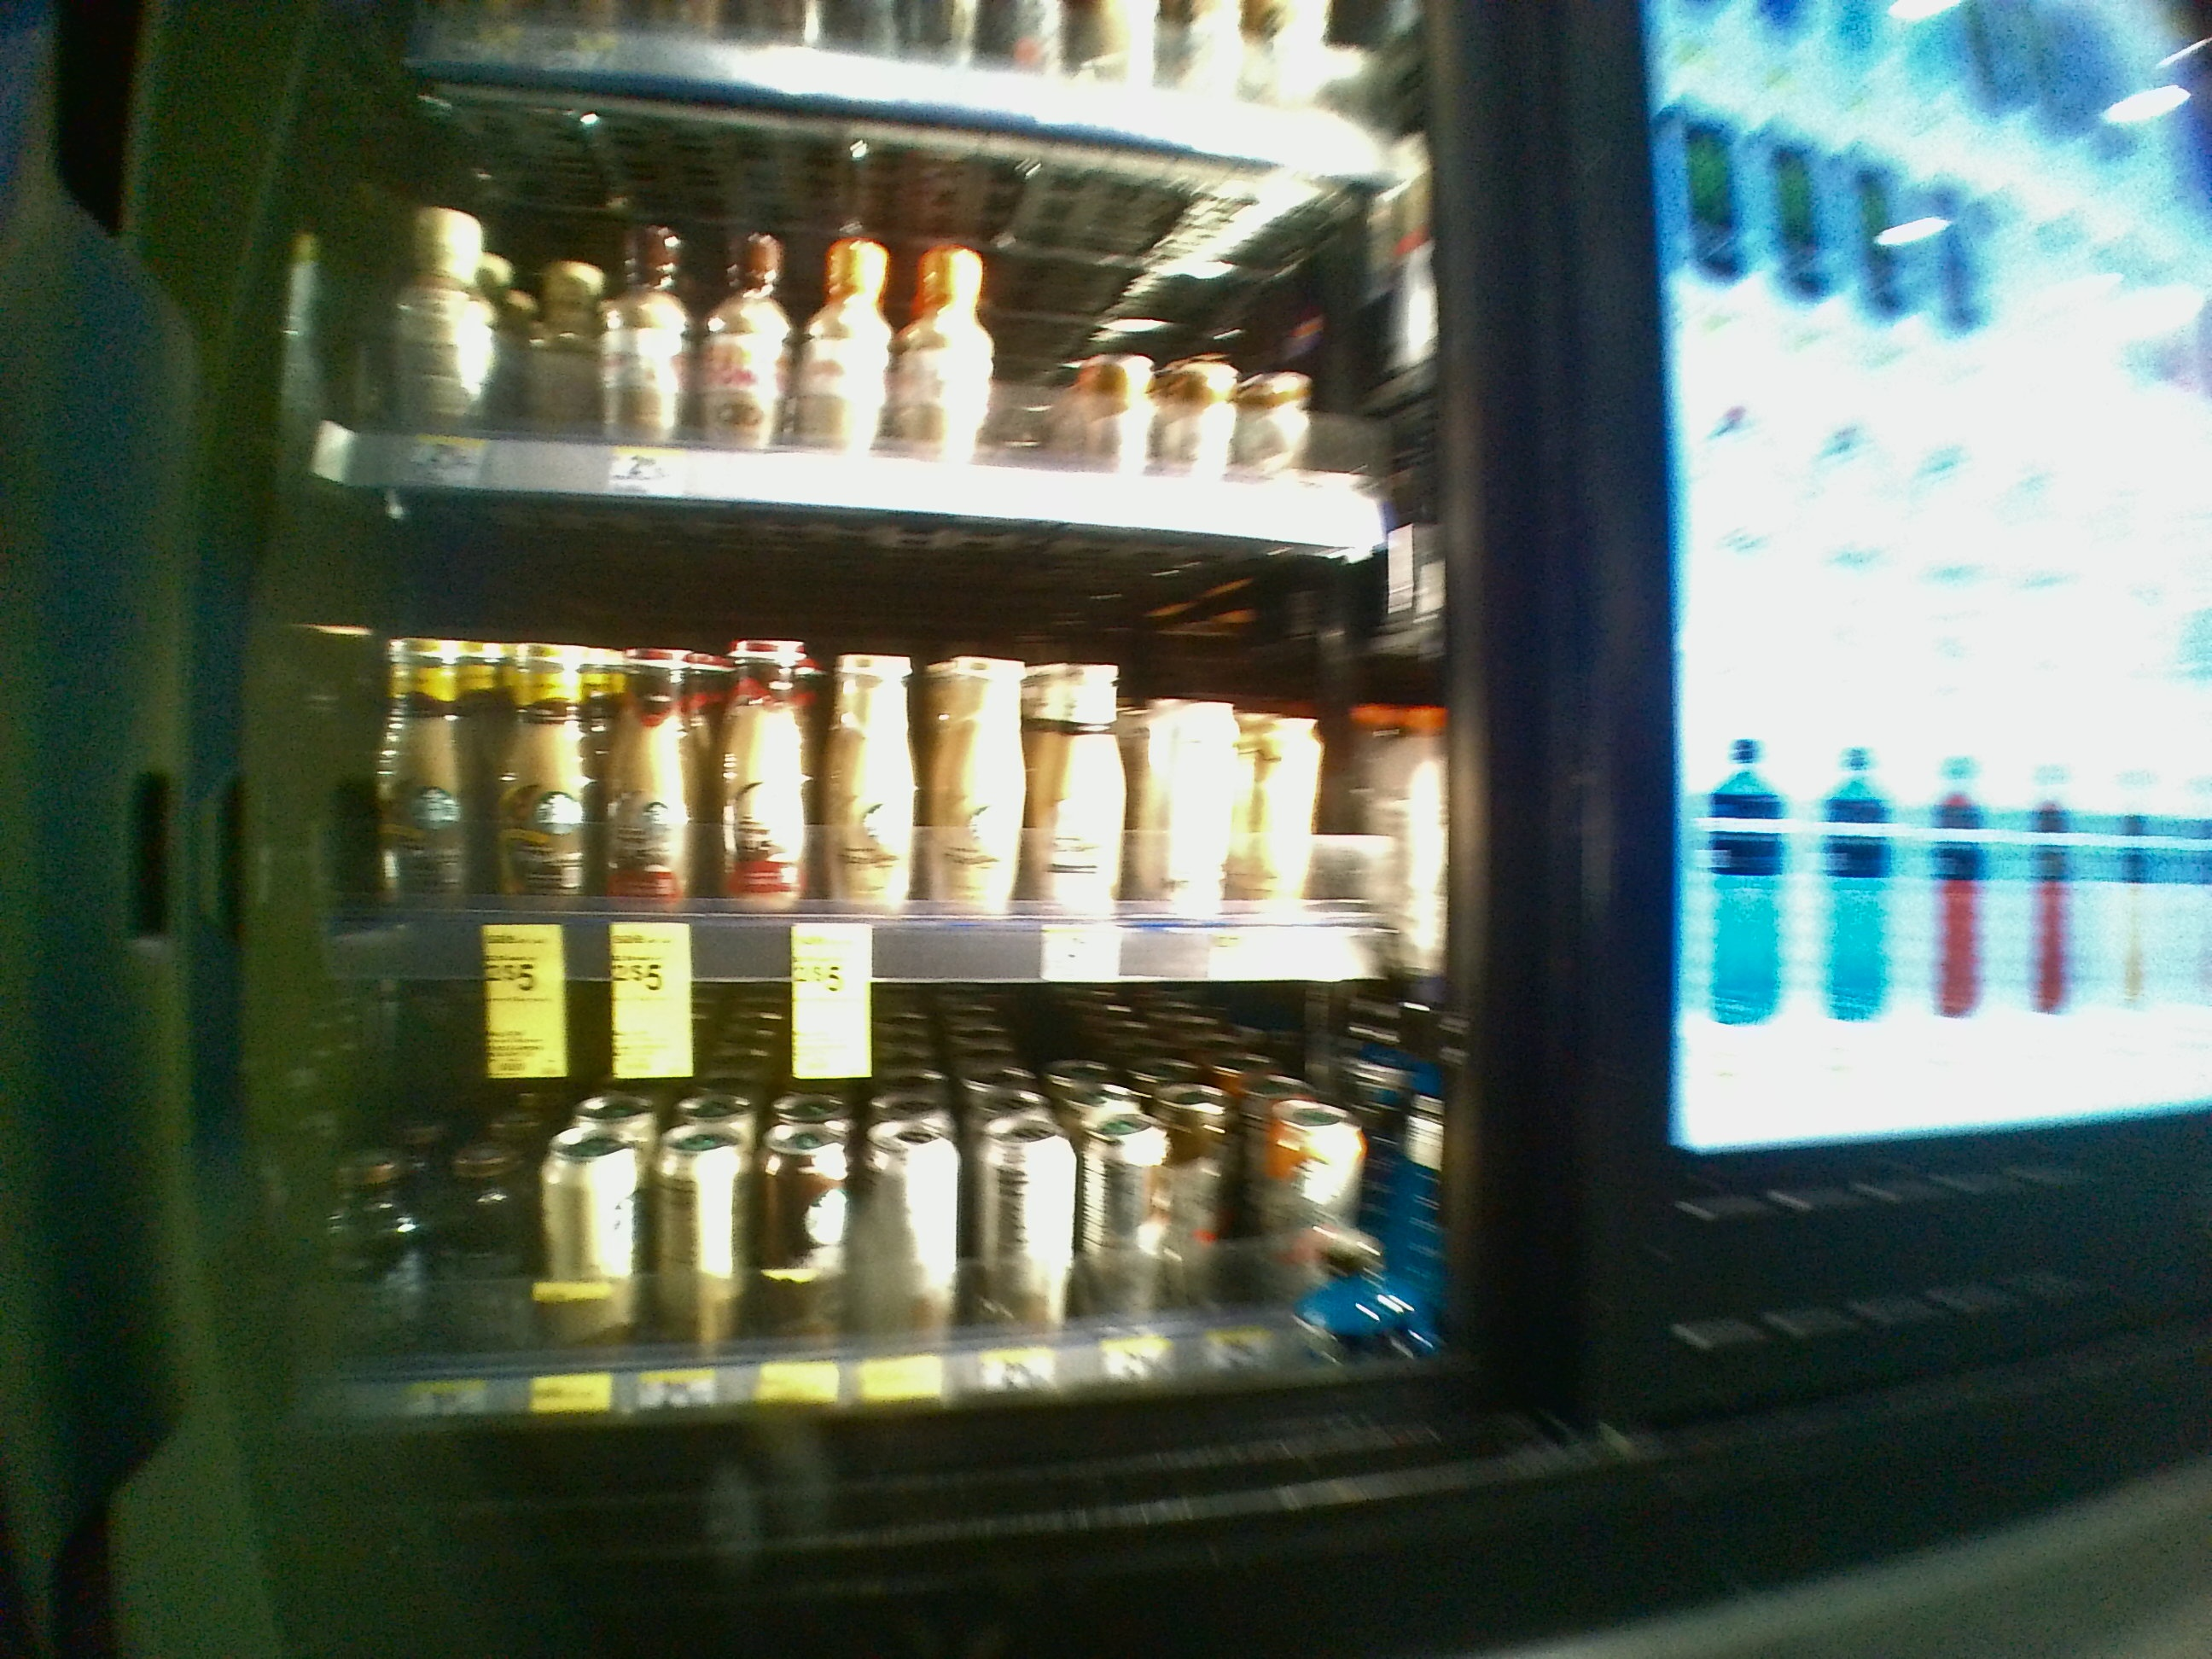shelf: (298, 504, 1461, 985), (279, 983, 1468, 1413)
